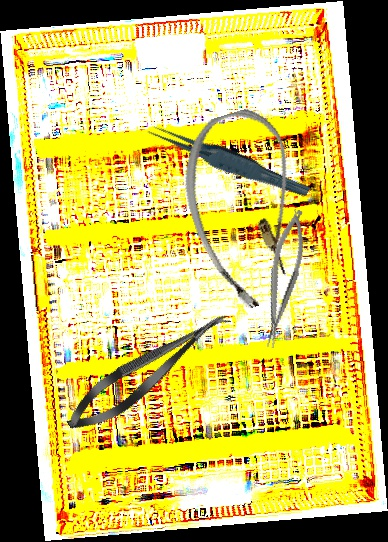Cannula: (166, 101, 327, 317)
Micro Scissor: (57, 299, 239, 443)
Needle Holder: (251, 207, 315, 350)
Tissue Forceps: (145, 110, 312, 210)
